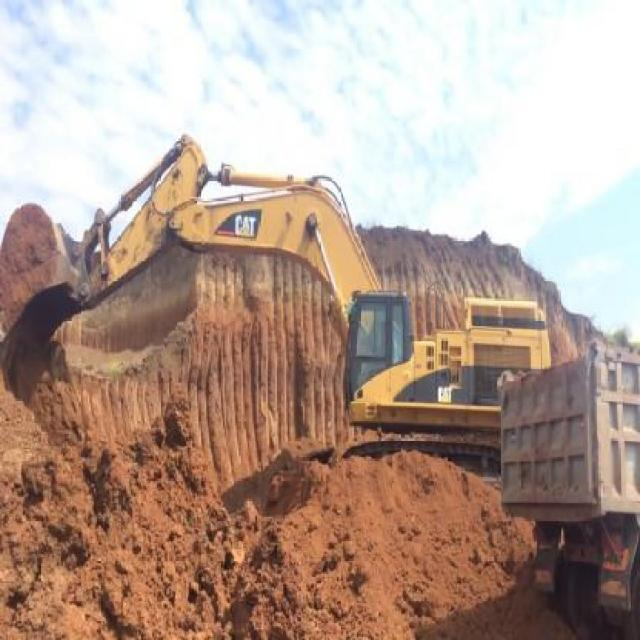Dump Truck: (496, 351, 639, 635)
Excavator: (0, 130, 552, 467)
